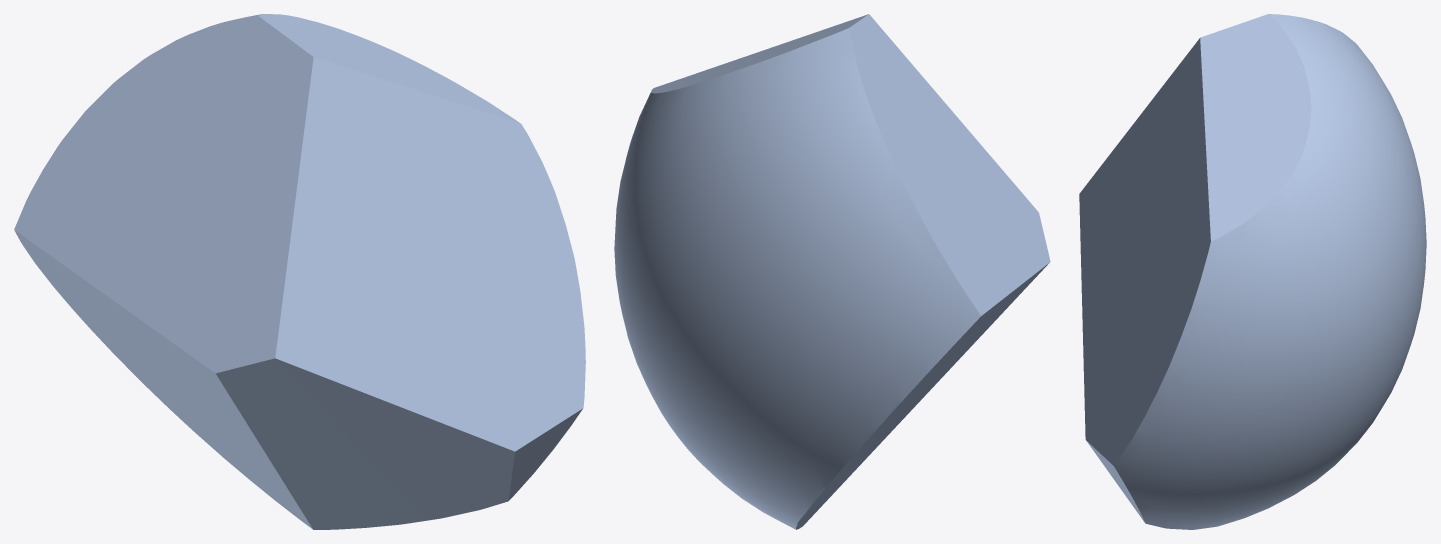
File: Ball3_2.fbx
3 renders of one model, left to right at view 1: azimuth 30°, elevation 25°; view 2: azimuth 150°, elevation 25°; view 3: azimuth 270°, elevation 25°, orthographic. The views are drawn at different scales.
Parts seen in each view (by area): view 1: Cube_cell.051; view 2: Cube_cell.051; view 3: Cube_cell.051.
Part boxes in pixels (box(x1,y1,x2,y2)): Cube_cell.051: box(14, 14, 585, 529); Cube_cell.051: box(614, 14, 1050, 529); Cube_cell.051: box(1079, 14, 1426, 529).
Bounding box in the file's own units: 136 × 151 × 101.
